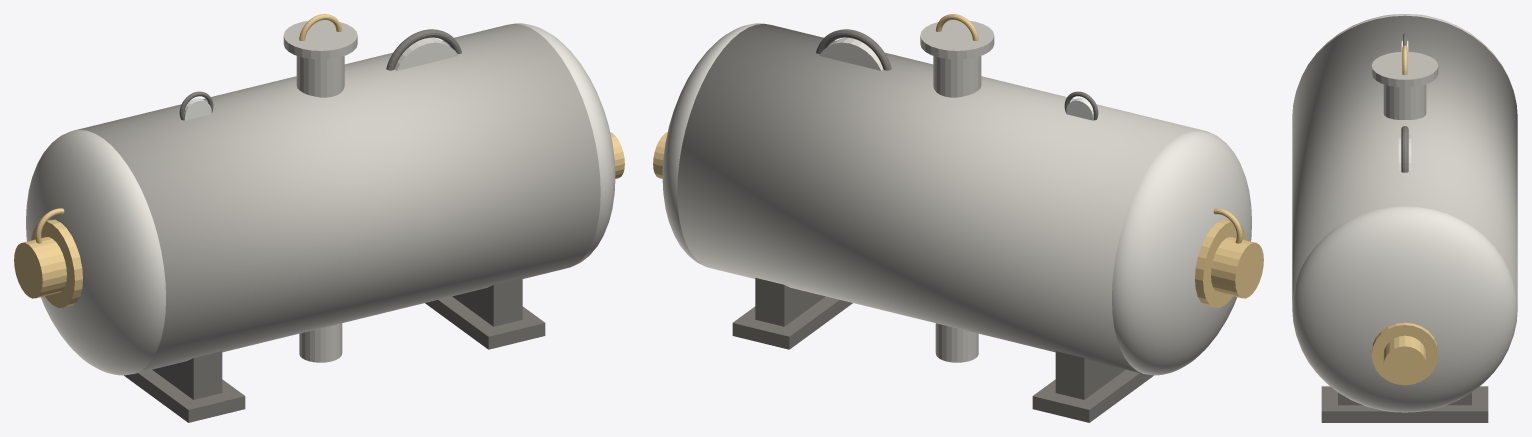
The model's file is separator.glb.
3 views of the same model, side by side, from view 1: azimuth 30°, elevation 25°; view 2: azimuth 150°, elevation 25°; view 3: azimuth 270°, elevation 25° (orthographic). The views are drawn at different scales.
Parts seen in each view (by area): view 1: Separator_Shell, Separator_Head_W, Separator_Head_E, Separator_BasePlate_W, Separator_BasePlate_E, Separator_Inlet, Separator_GasNozzle_Flange, Separator_Saddle_W, Separator_Saddle_E, Separator_Inlet_Flange, Separator_GasNozzle, Separator_WaterNozzle (+2 smaller); view 2: Separator_Shell, Separator_Head_W, Separator_Head_E, Separator_BasePlate_W, Separator_BasePlate_E, Separator_Inlet, Separator_GasNozzle_Flange, Separator_Saddle_W, Separator_Saddle_E, Separator_Inlet_Flange, Separator_GasNozzle, Separator_WaterNozzle (+2 smaller); view 3: Separator_Shell, Separator_Head_E, Separator_BasePlate_E, Separator_GasNozzle_Flange, Separator_OilOutlet, Separator_OilOutlet_Flange, Separator_GasNozzle, Separator_Head_W, Separator_ManwayRing, Separator_Saddle_E, Separator_Manway.
Part boxes in pixels (<box>): Separator_Shell: <box>74,23,600,373</box>; Separator_Head_W: <box>26,129,165,375</box>; Separator_Head_E: <box>515,23,615,267</box>; Separator_BasePlate_W: <box>124,369,245,422</box>; Separator_BasePlate_E: <box>425,296,545,349</box>; Separator_Inlet: <box>14,237,66,298</box>; Separator_GasNozzle_Flange: <box>283,20,357,59</box>; Separator_Saddle_W: <box>152,351,222,399</box>; Separator_Saddle_E: <box>452,278,522,326</box>; Separator_Inlet_Flange: <box>31,219,82,307</box>; Separator_GasNozzle: <box>296,56,344,97</box>; Separator_WaterNozzle: <box>299,323,342,362</box>; Separator_Shell: <box>677,23,1203,373</box>; Separator_Head_W: <box>1112,129,1251,375</box>; Separator_Head_E: <box>662,23,762,267</box>; Separator_BasePlate_W: <box>1032,369,1153,422</box>; Separator_BasePlate_E: <box>732,296,852,349</box>; Separator_Inlet: <box>1211,237,1263,298</box>; Separator_GasNozzle_Flange: <box>920,20,994,59</box>; Separator_Saddle_W: <box>1055,351,1125,399</box>; Separator_Saddle_E: <box>755,278,825,326</box>; Separator_Inlet_Flange: <box>1195,219,1246,307</box>; Separator_GasNozzle: <box>933,56,981,97</box>; Separator_WaterNozzle: <box>935,323,978,362</box>; Separator_Shell: <box>1292,15,1517,304</box>; Separator_Head_E: <box>1292,206,1517,412</box>; Separator_BasePlate_E: <box>1321,386,1488,422</box>; Separator_GasNozzle_Flange: <box>1371,52,1438,87</box>; Separator_OilOutlet: <box>1383,335,1426,385</box>; Separator_OilOutlet_Flange: <box>1371,322,1438,384</box>; Separator_GasNozzle: <box>1383,84,1426,119</box>; Separator_Head_W: <box>1301,14,1508,77</box>; Separator_ManwayRing: <box>1401,126,1408,172</box>; Separator_Saddle_E: <box>1338,392,1471,405</box>; Separator_Manway: <box>1398,135,1411,170</box>.
Bounding box in the file's own units: 5.65 × 3.13 × 2.1.
